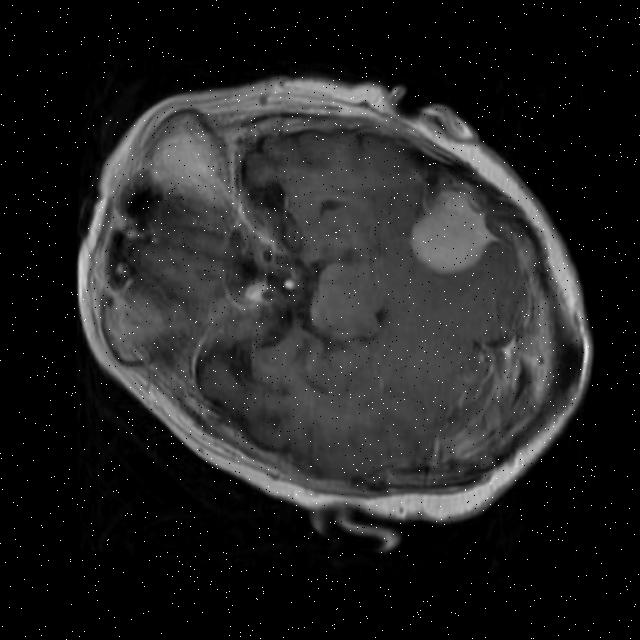Meningioma: (400, 181, 506, 282)
